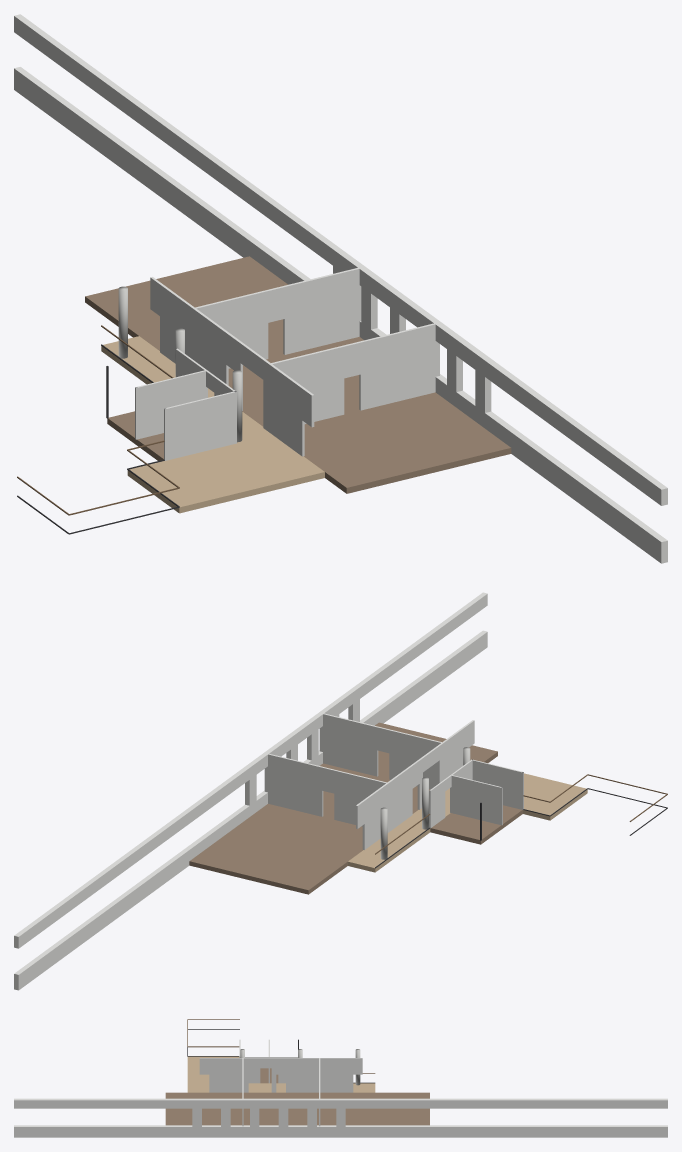
The model's file is SM_Bygg_Helgasetr_P4_O_MS.fbx.
The picture shows the model from 3 angles, top to bottom: view 1: azimuth 30°, elevation 25°; view 2: azimuth 150°, elevation 25°; view 3: azimuth 270°, elevation 25°; orthographic projection. The views are drawn at different scales.
Parts seen in each view (by area): view 1: SM_Bygg_Helgasetr_P4_O_MS; view 2: SM_Bygg_Helgasetr_P4_O_MS; view 3: SM_Bygg_Helgasetr_P4_O_MS.
Part boxes in pixels (x1,y1,x2,y2): SM_Bygg_Helgasetr_P4_O_MS: (14, 14, 667, 563); SM_Bygg_Helgasetr_P4_O_MS: (14, 592, 667, 990); SM_Bygg_Helgasetr_P4_O_MS: (14, 1019, 667, 1137).
Bounding box in the file's own units: 68.17 × 25.98 × 4.3.
